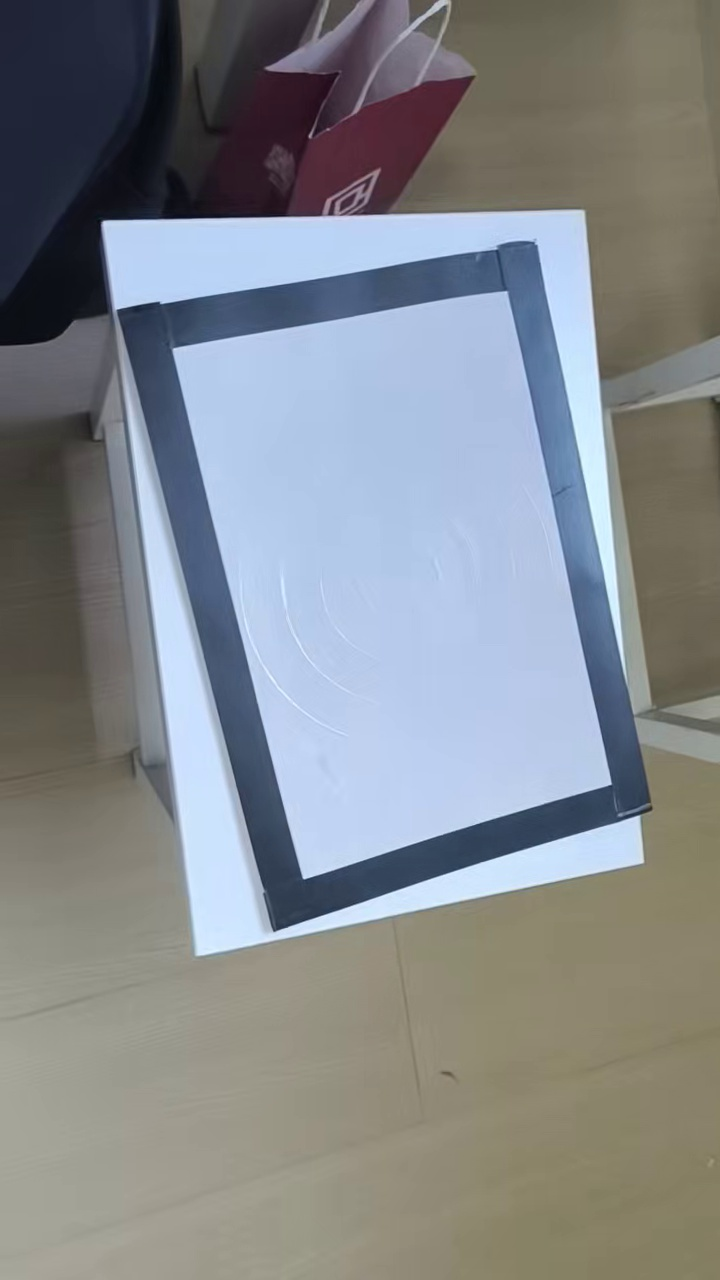board: (120, 239, 651, 927)
